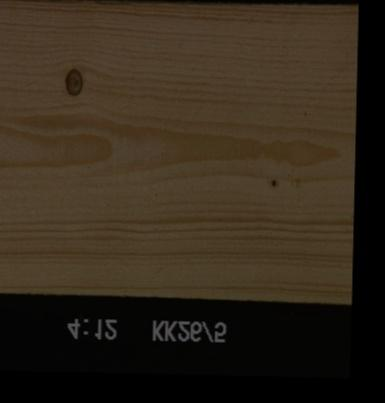dry_knot: (61, 66, 83, 98)
small_knot: (266, 175, 279, 190)
